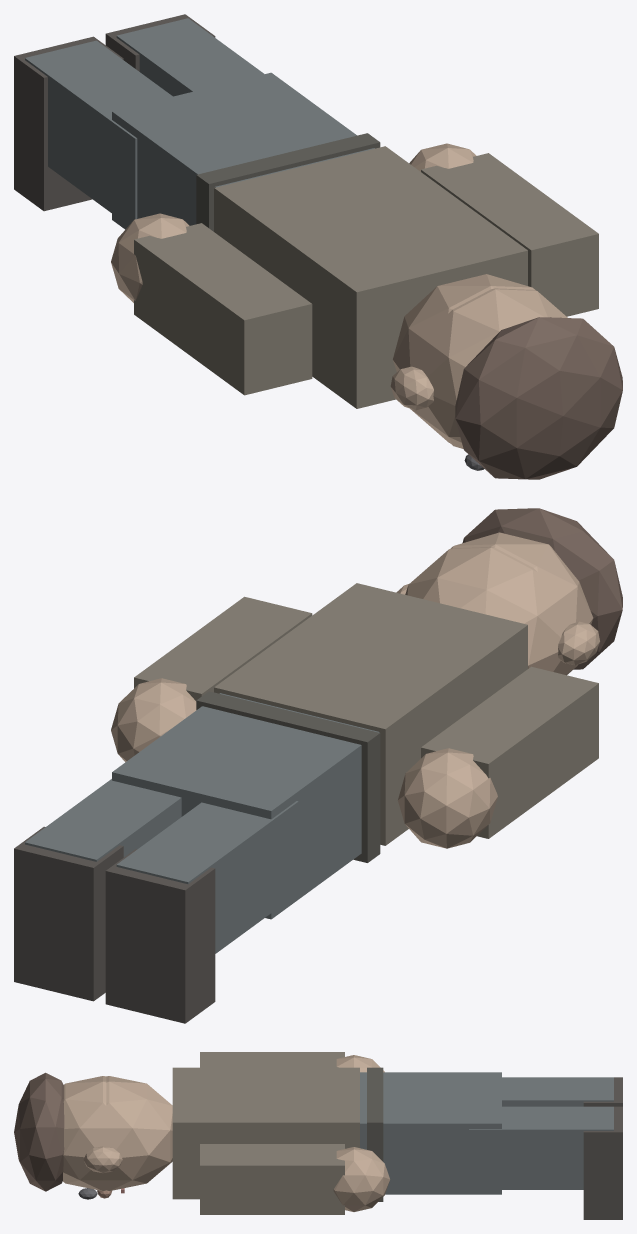
File: face_female_smile.glb
3 renders of one model, top to bottom at view 1: azimuth 30°, elevation 25°; view 2: azimuth 150°, elevation 25°; view 3: azimuth 270°, elevation 25°, orthographic. The views are drawn at different scales.
Visible parts, largest first — view 1: part_00, part_19, part_06, part_01, part_04, part_12, part_02, part_10, part_05, part_03, part_18, part_07 (+3 smaller); view 2: part_00, part_01, part_05, part_06, part_04, part_11, part_03, part_12, part_07, part_10, part_19, part_18 (+3 smaller); view 3: part_00, part_01, part_12, part_10, part_03, part_02, part_19, part_11, part_04, part_13, part_06, part_18 (+3 smaller).
Part boxes in pixels (box(x1,y1,x2,y2)): part_00: box(214, 146, 527, 408); part_19: box(455, 317, 622, 479); part_06: box(134, 223, 312, 395); part_01: box(112, 72, 374, 229); part_04: box(25, 40, 172, 225); part_12: box(421, 153, 598, 316); part_02: box(413, 288, 567, 448); part_10: box(116, 18, 264, 96); part_05: box(14, 36, 123, 211); part_03: box(393, 274, 535, 442); part_18: box(196, 133, 380, 231); part_07: box(111, 213, 189, 302); part_00: box(214, 583, 527, 845); part_01: box(112, 693, 379, 919); part_05: box(105, 849, 215, 1023); part_06: box(421, 666, 598, 838); part_04: box(116, 801, 298, 953); part_11: box(14, 826, 123, 1001); part_03: box(405, 546, 565, 672); part_12: box(134, 596, 312, 700); part_07: box(398, 748, 497, 848); part_10: box(25, 779, 181, 861); part_19: box(462, 508, 622, 669); part_18: box(196, 691, 380, 862); part_00: box(172, 1067, 359, 1199); part_01: box(360, 1072, 501, 1194); part_12: box(200, 1144, 344, 1214); part_10: box(469, 1106, 613, 1189); part_03: box(86, 1076, 172, 1191); part_02: box(63, 1076, 126, 1191); part_19: box(14, 1072, 64, 1191); part_11: box(583, 1106, 622, 1219); part_04: box(502, 1077, 613, 1106); part_13: box(333, 1147, 390, 1211); part_06: box(200, 1052, 344, 1067); part_18: box(367, 1067, 383, 1201).
Bounding box in the file's own units: 0.93 × 0.435 × 2.02.
